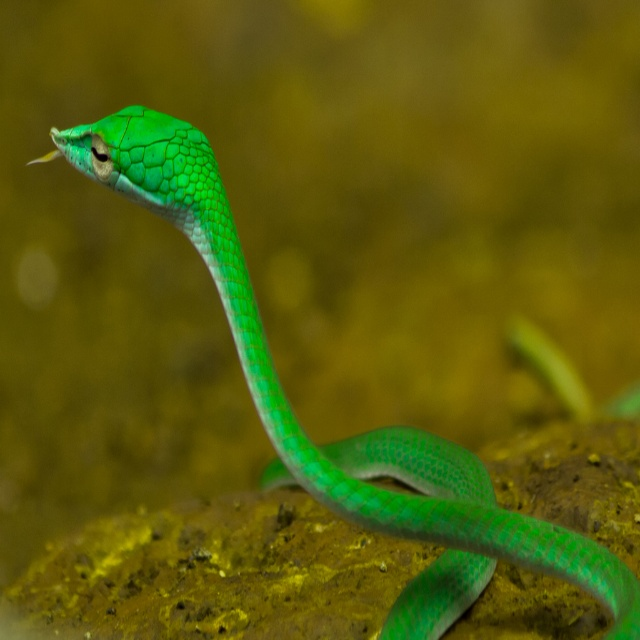Snake: (23, 103, 640, 639)
